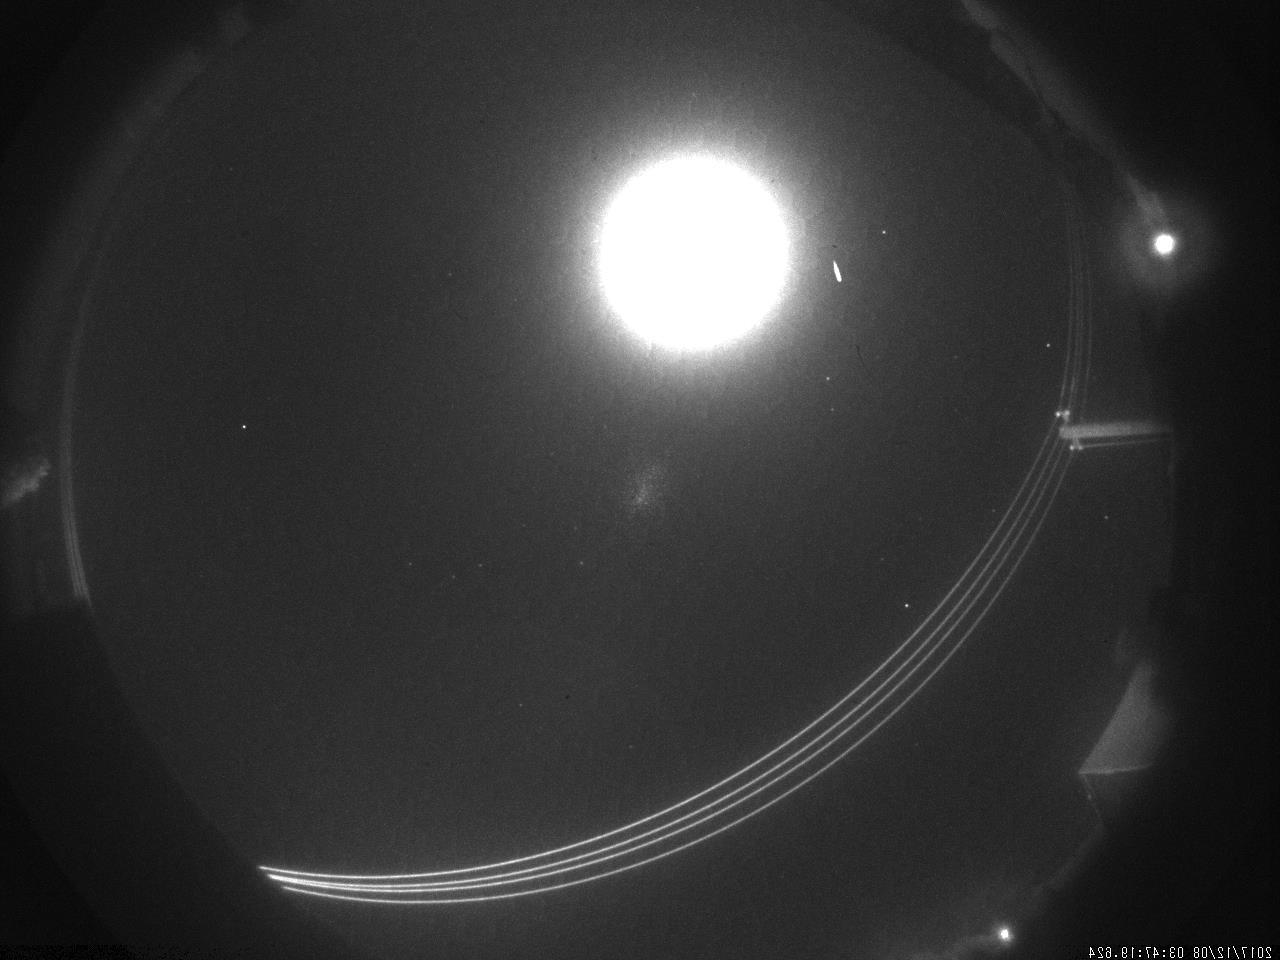meteor: (824, 259, 862, 292)
